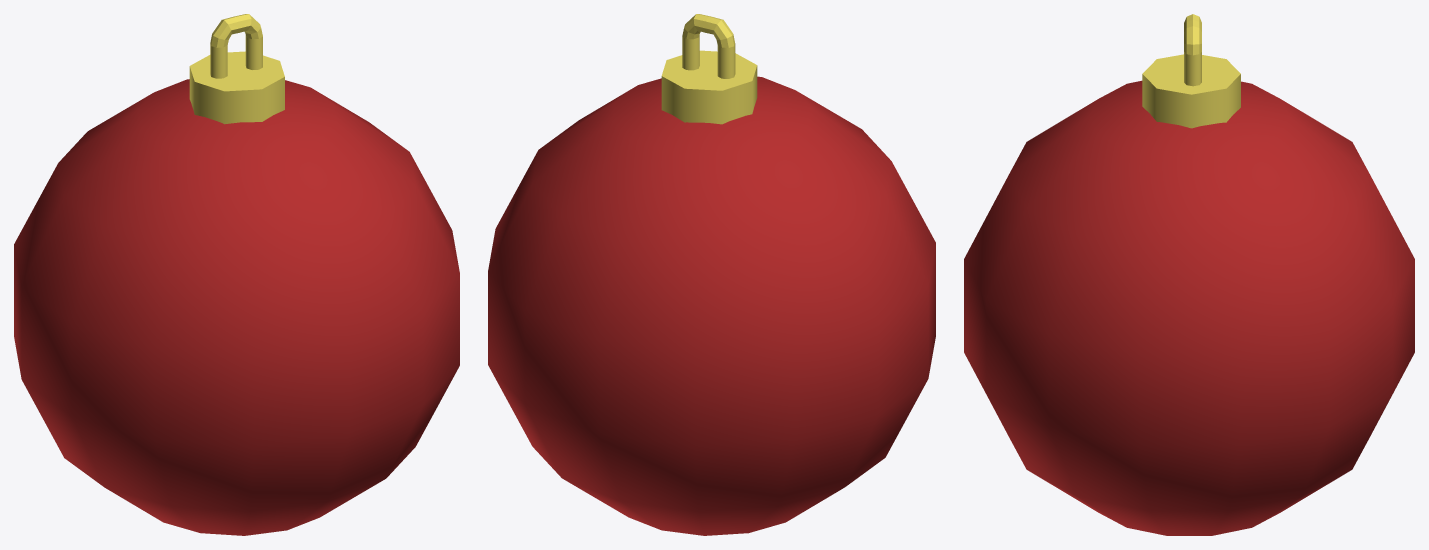
File: M_Ball_01.FBX
3 views of the same model, side by side, from view 1: azimuth 30°, elevation 25°; view 2: azimuth 150°, elevation 25°; view 3: azimuth 270°, elevation 25° (orthographic).
Parts seen in each view (by area): view 1: Sphere002; view 2: Sphere002; view 3: Sphere002.
Boxes of the visible parts, x1,y1,x2,y2 form: Sphere002: (14, 14, 459, 535); Sphere002: (488, 14, 935, 535); Sphere002: (964, 14, 1414, 535).
Bounding box in the file's own units: 21.83 × 27.2 × 22.39.
